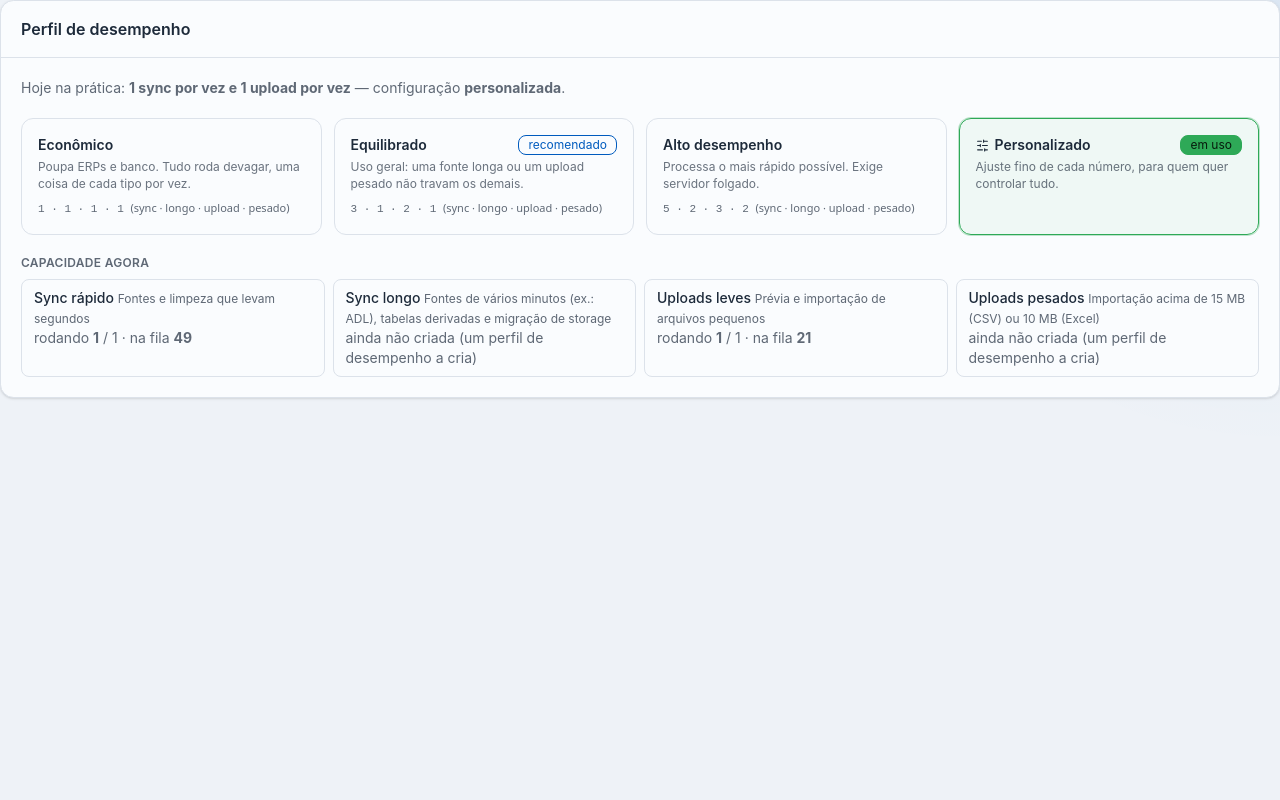
Test: WorkerPresets › sem supervisor: só dá para salvar (reiniciar fica desabilitado)
Click the button "Equilibrado": (484, 176) [334,118,634,234]
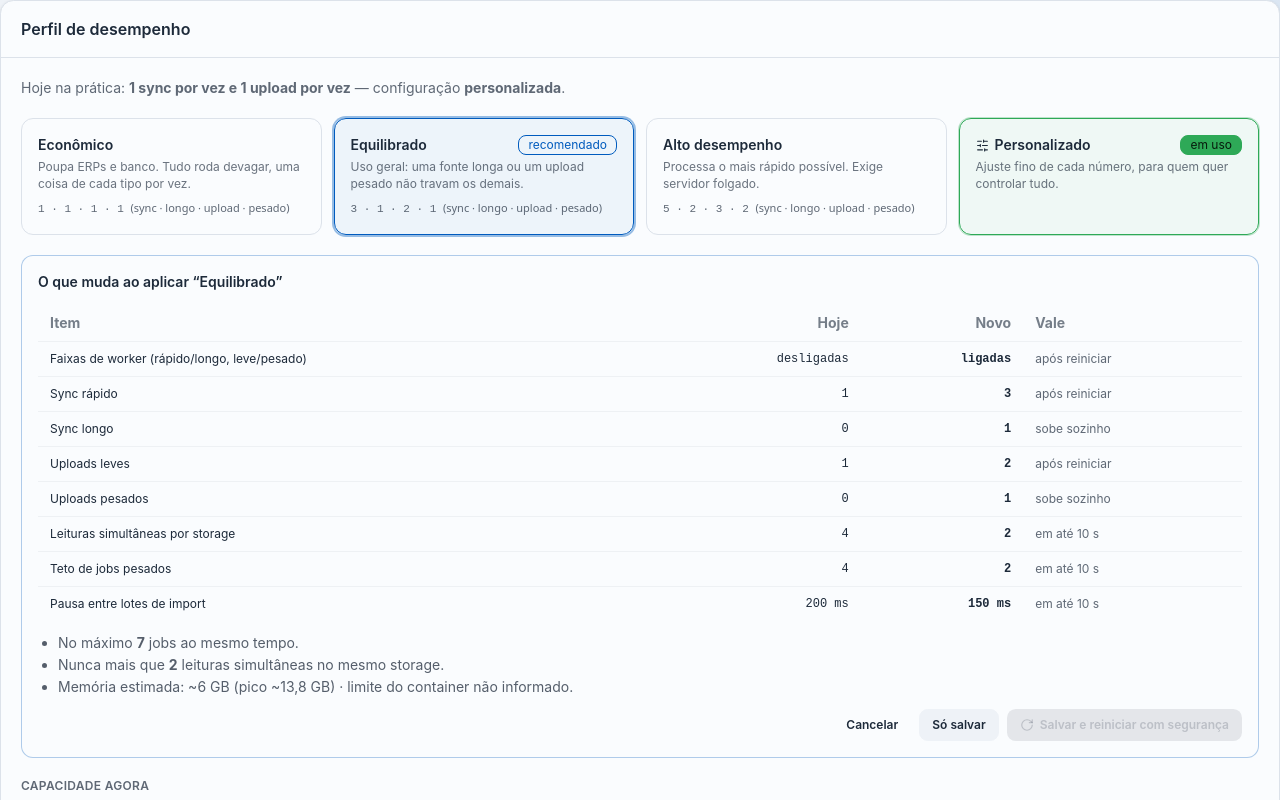
Now the button "Salvar e reiniciar com segurança" is disabled, box [1007,708,1242,740]
Now the button "Só salvar" is enabled, box [919,708,999,740]
